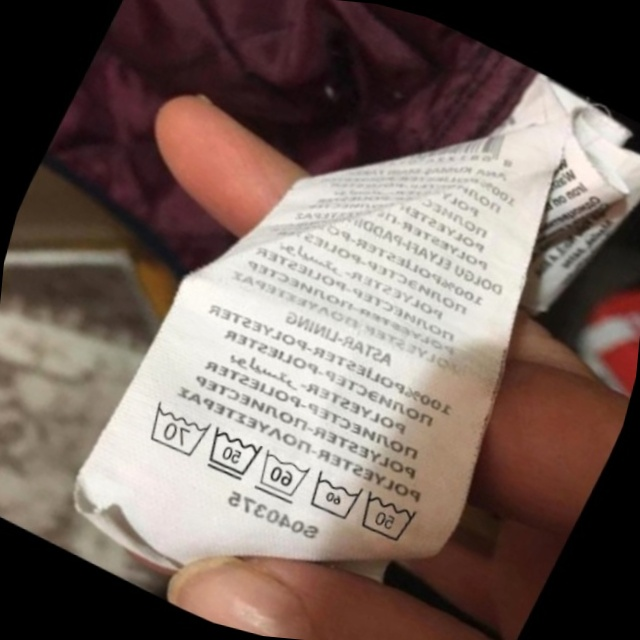50C: (344, 476, 432, 557), (191, 415, 272, 492)
60C: (242, 438, 319, 512), (294, 459, 372, 532)
70C: (131, 390, 218, 467)
